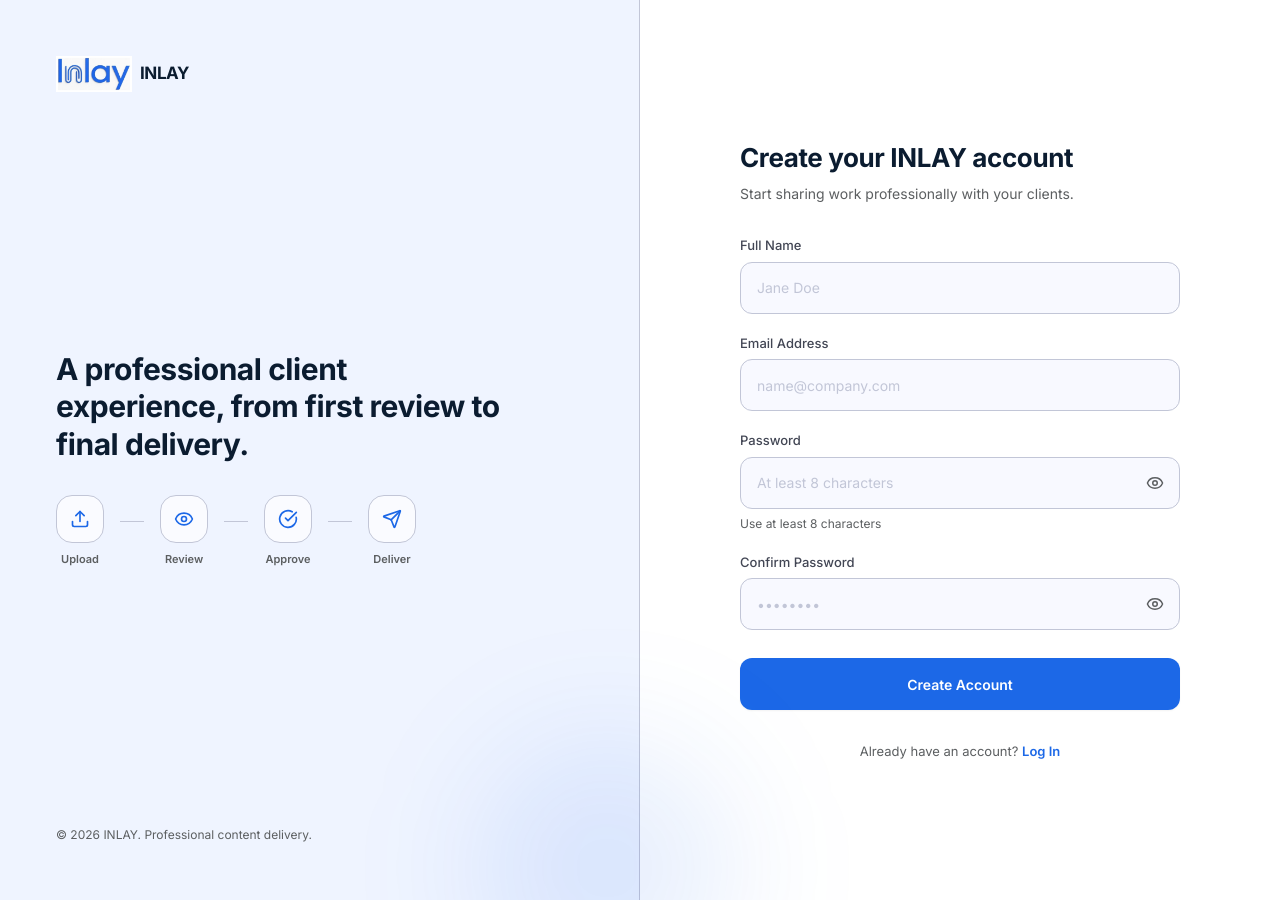
RegisterForm › shows server-side field validation errors
The image size is (1280, 900).
Type "Arjun Raj" into the field labelled "Full Name".
click(960, 288); type("Arjun Raj")  # box [740,262,1180,314]
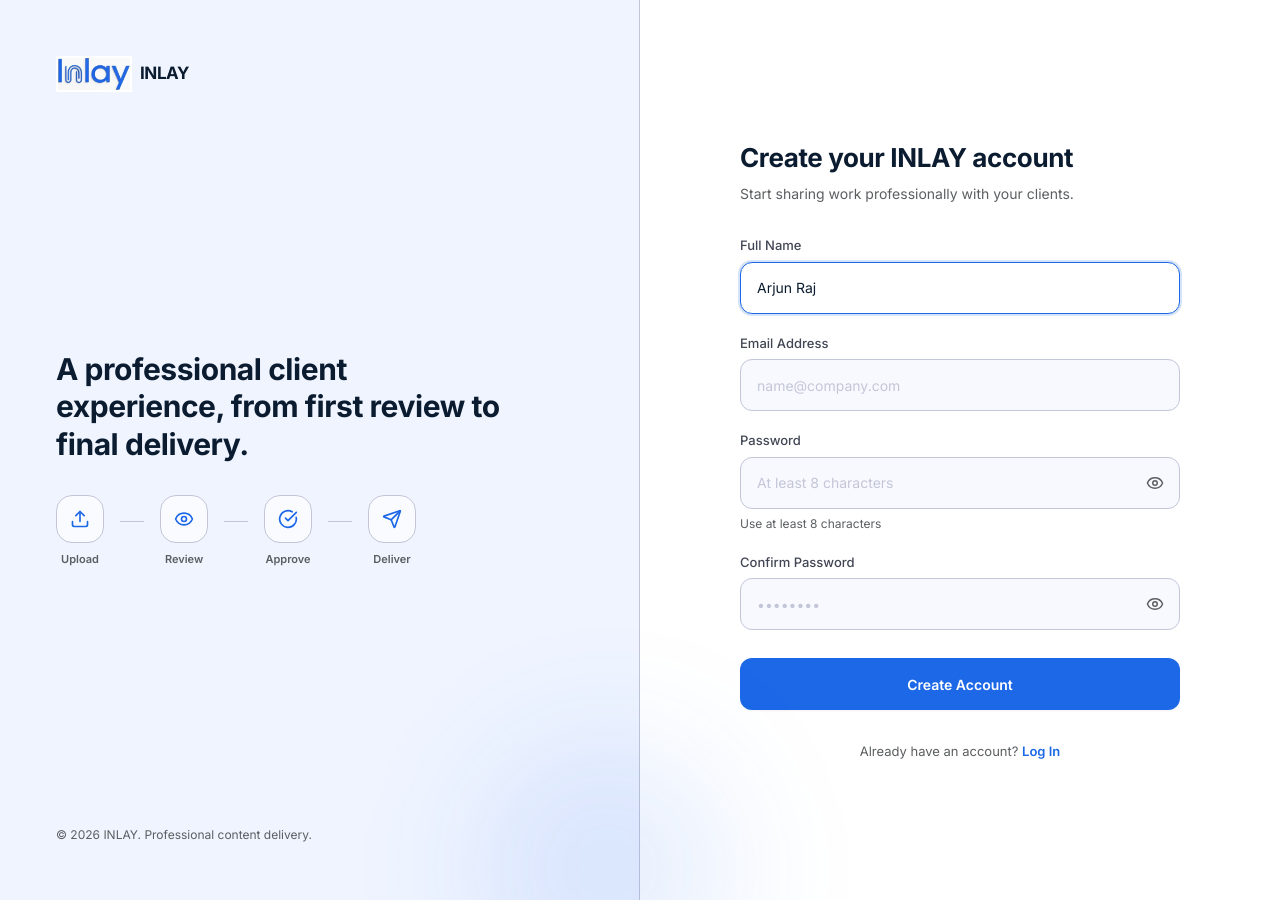
Type "arjun@example.com" into the field labelled "Email Address".
click(960, 385); type("arjun@example.com")  # box [740,359,1180,411]
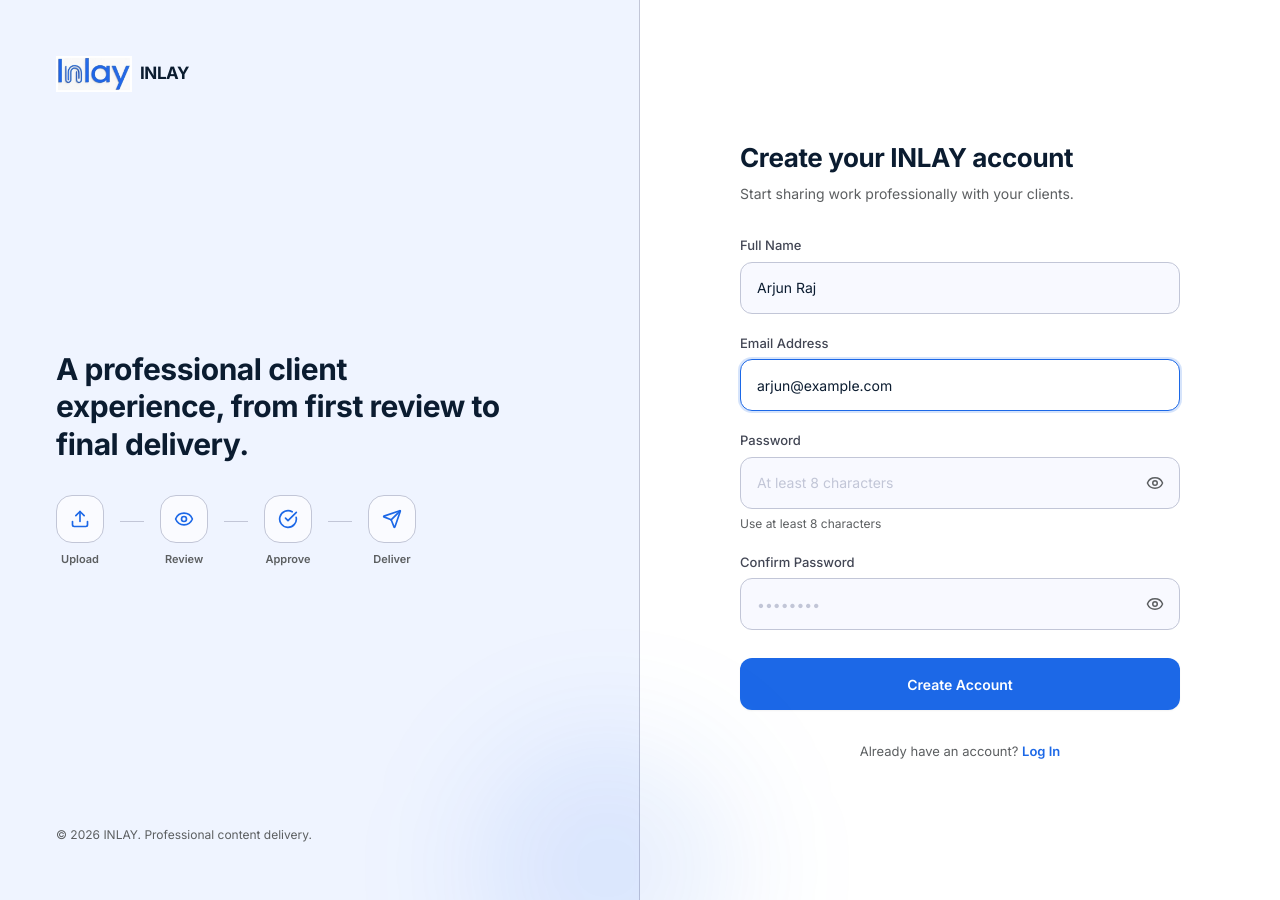
Type "short" into the password field labelled "Password".
click(960, 483); type("short")  # box [740,457,1180,509]
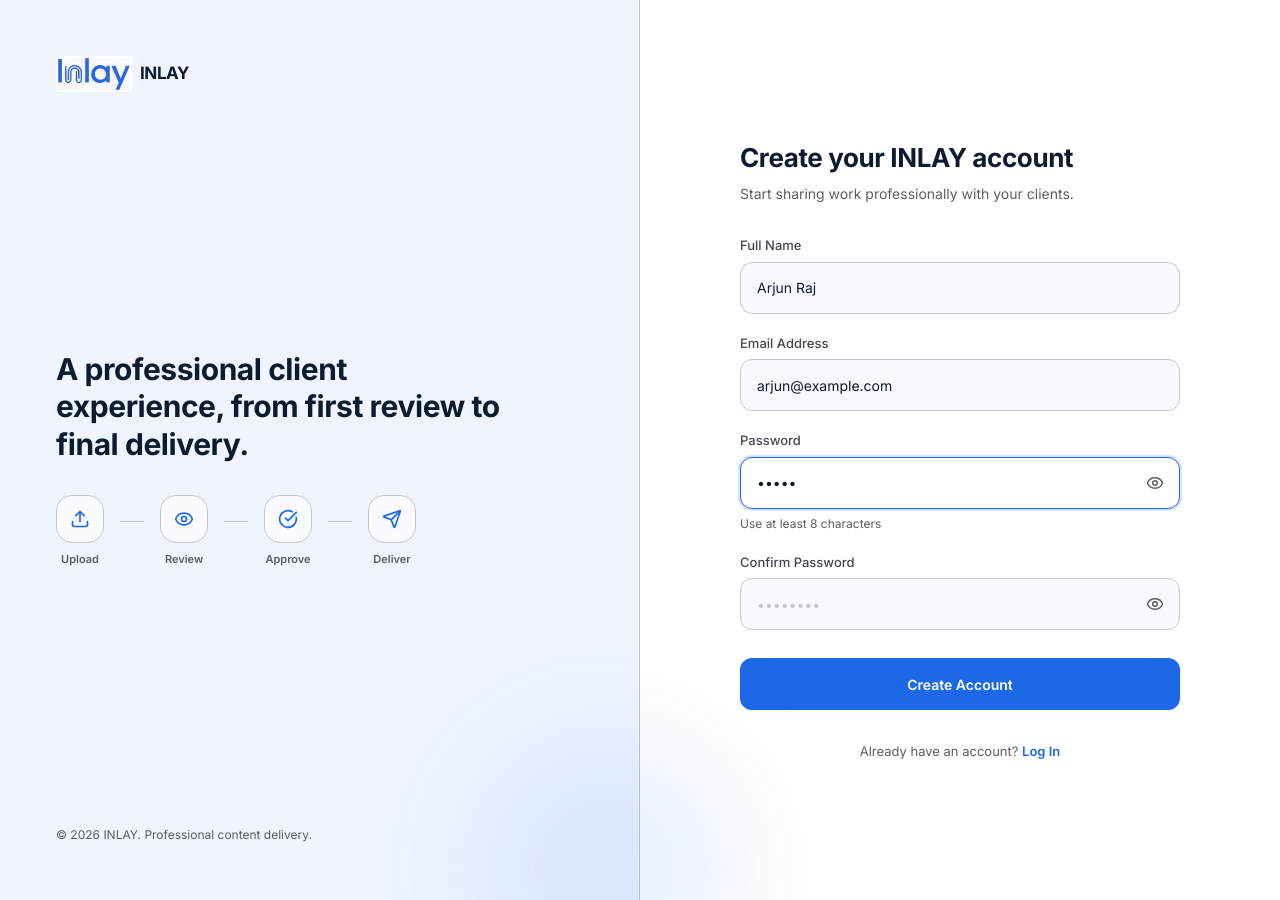
Click the button "Create Account".
click(960, 684)  # box [740,658,1180,710]
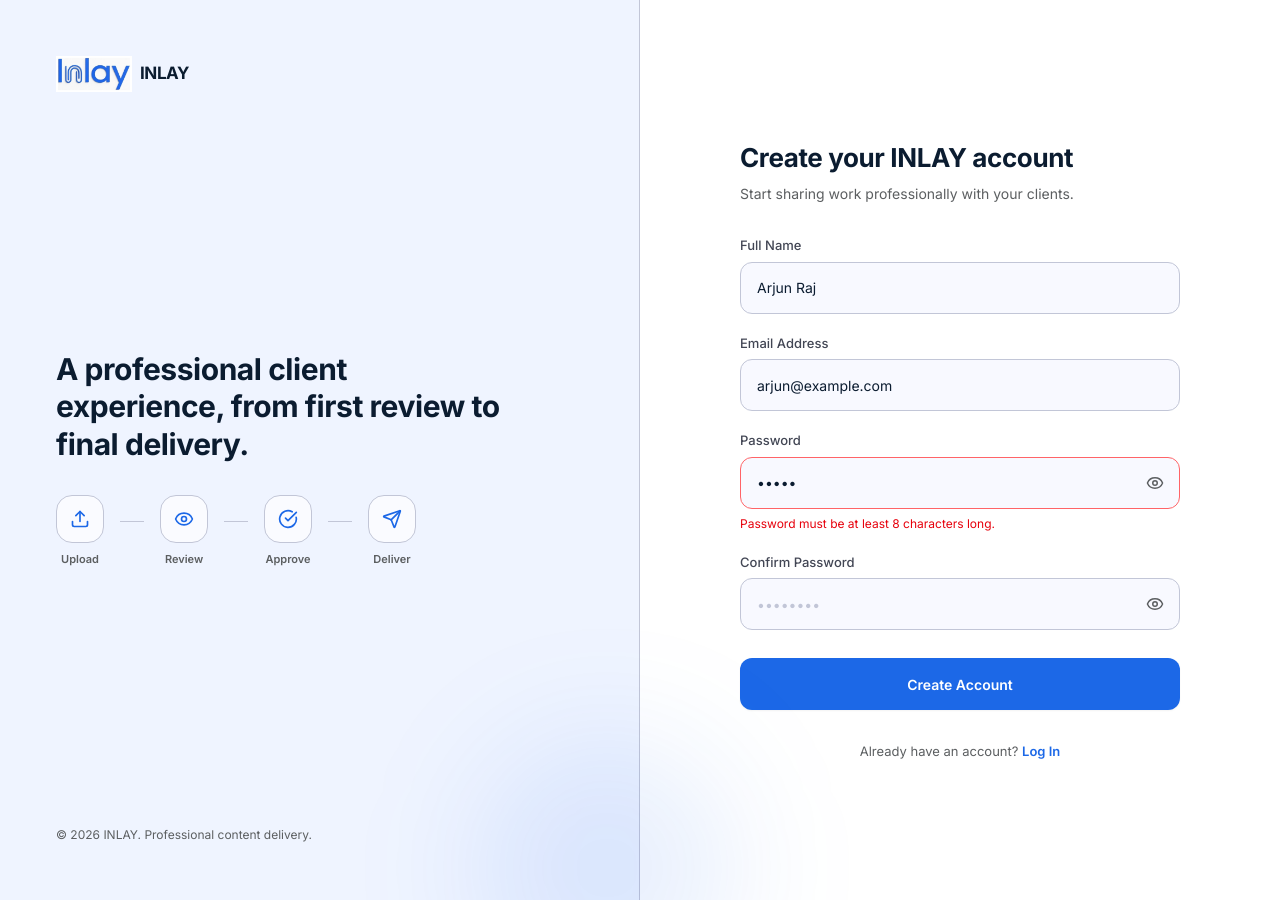
expect the list item "Password must be at least 8 characters long." is shown: met, box [740,516,995,531]
